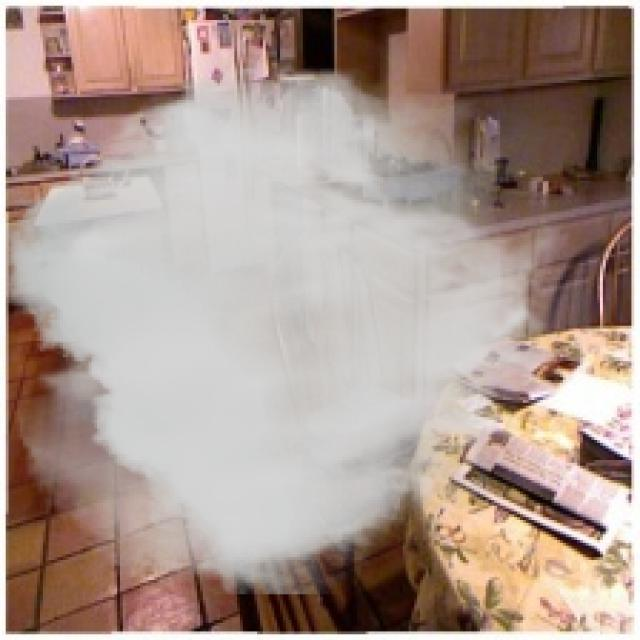Smoke: (6, 60, 572, 594)
